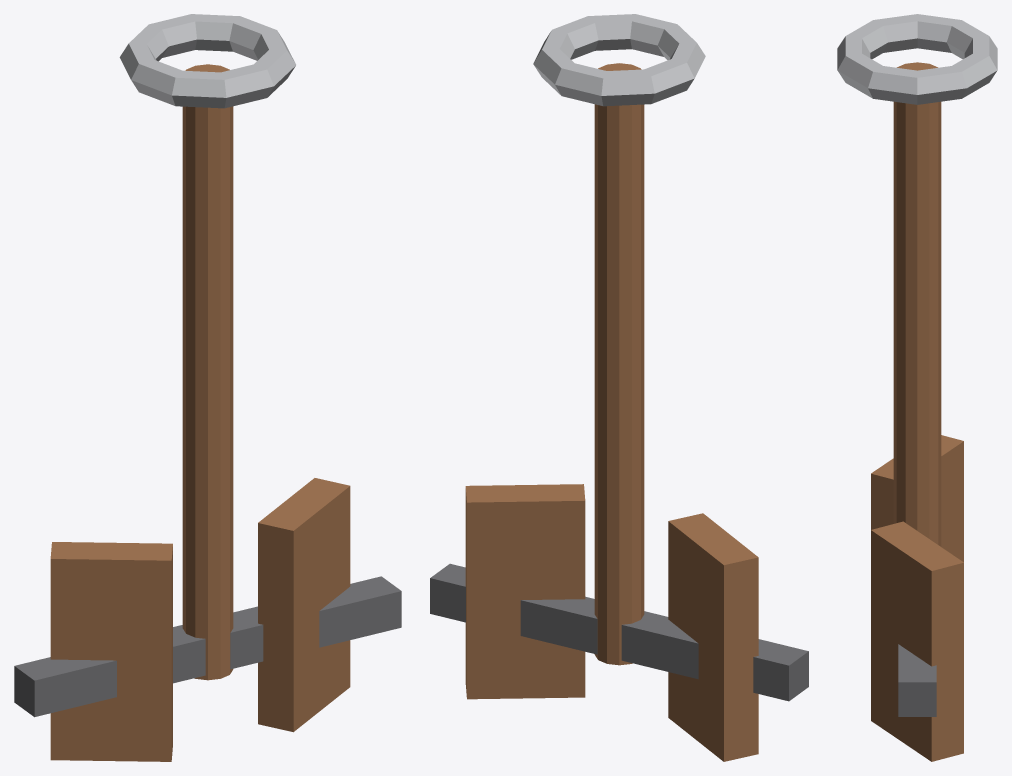
The model's file is LL_Anchor.fbx.
3 views of the same model, side by side, from view 1: azimuth 30°, elevation 25°; view 2: azimuth 150°, elevation 25°; view 3: azimuth 270°, elevation 25° (orthographic). The views are drawn at different scales.
Parts seen in each view (by area): view 1: LL_Anchor_Shank, LL_Anchor_Fluke_L, LL_Anchor_Fluke_R, LL_Anchor_Stock, LL_Anchor_Ring; view 2: LL_Anchor_Shank, LL_Anchor_Fluke_R, LL_Anchor_Fluke_L, LL_Anchor_Stock, LL_Anchor_Ring; view 3: LL_Anchor_Shank, LL_Anchor_Fluke_R, LL_Anchor_Ring, LL_Anchor_Fluke_L, LL_Anchor_Stock.
Part boxes in pixels (box(x1,y1,x2,y2)): LL_Anchor_Shank: box(182, 64, 233, 680); LL_Anchor_Fluke_L: box(50, 542, 172, 761); LL_Anchor_Fluke_R: box(258, 478, 350, 732); LL_Anchor_Stock: box(14, 576, 401, 717); LL_Anchor_Ring: box(119, 14, 295, 108); LL_Anchor_Shank: box(594, 63, 644, 665); LL_Anchor_Fluke_R: box(465, 484, 585, 699); LL_Anchor_Fluke_L: box(668, 513, 758, 761); LL_Anchor_Stock: box(430, 563, 808, 701); LL_Anchor_Ring: box(533, 14, 705, 106); LL_Anchor_Shank: box(893, 62, 941, 546); LL_Anchor_Fluke_R: box(871, 521, 963, 761); LL_Anchor_Ring: box(837, 14, 997, 104); LL_Anchor_Fluke_L: box(871, 435, 963, 561); LL_Anchor_Stock: box(898, 644, 936, 716).
Size of the model in its own units: 0.42 by 0.7456 by 0.1674.
